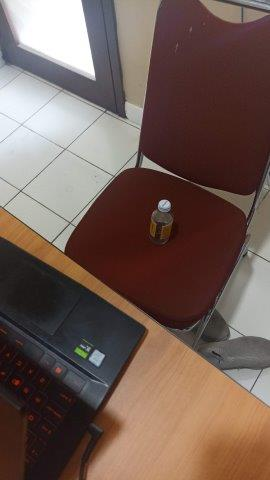botolkaca: (147, 200, 173, 247)
